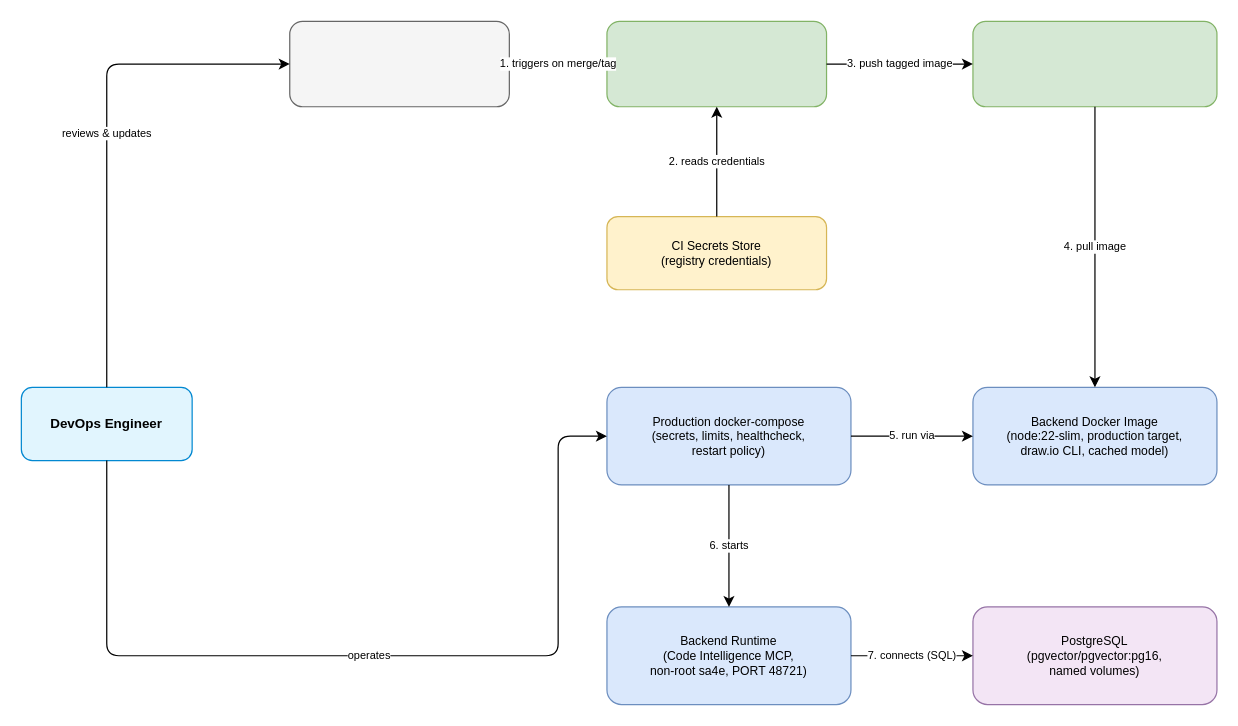
Some shapes in this 1238 by 726 pixel diagram are drawn without their labels. The centre of each missing label's shape, as x and y in pixels:
Container Registry (GHCR / Docker Hub / ECR): pixel 1094 63
Git Repository (source + Dockerfile + compose): pixel 399 63
GitHub Actions CI (build + tag + push): pixel 716 63
